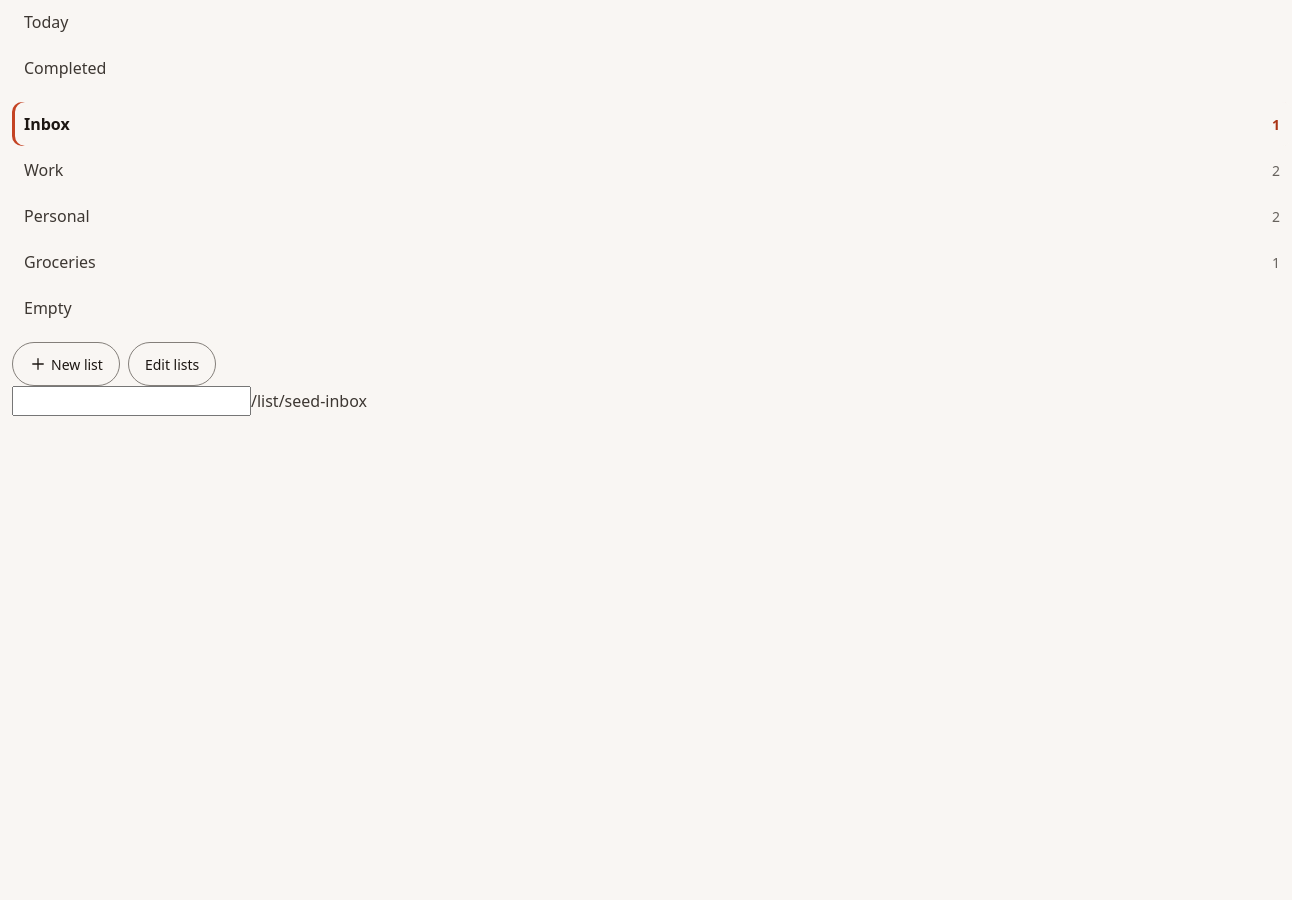
Scenario: ListNav › deleting › deletes an empty list without asking
The width and height of the screenshot is (1292, 900).
Expected: the link "Empty" is shown, [24,297,72,319]
Expected: the link "Work 2" is shown, [24,159,1280,181]
Click the button "Edit lists" at (172, 364), box [128,342,216,386]
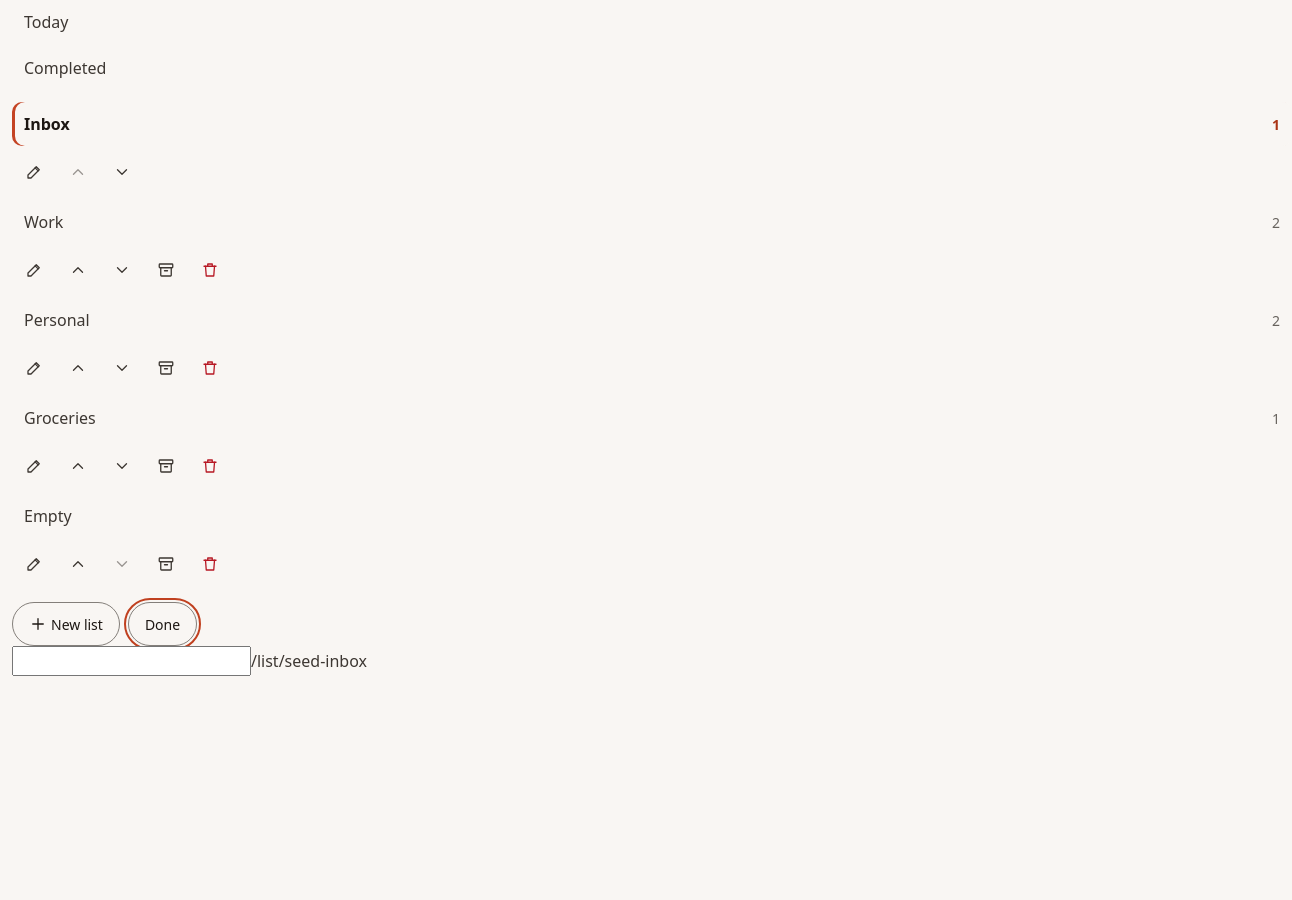
Click the button named "Delete Empty" at (210, 564), box [188,542,232,586]
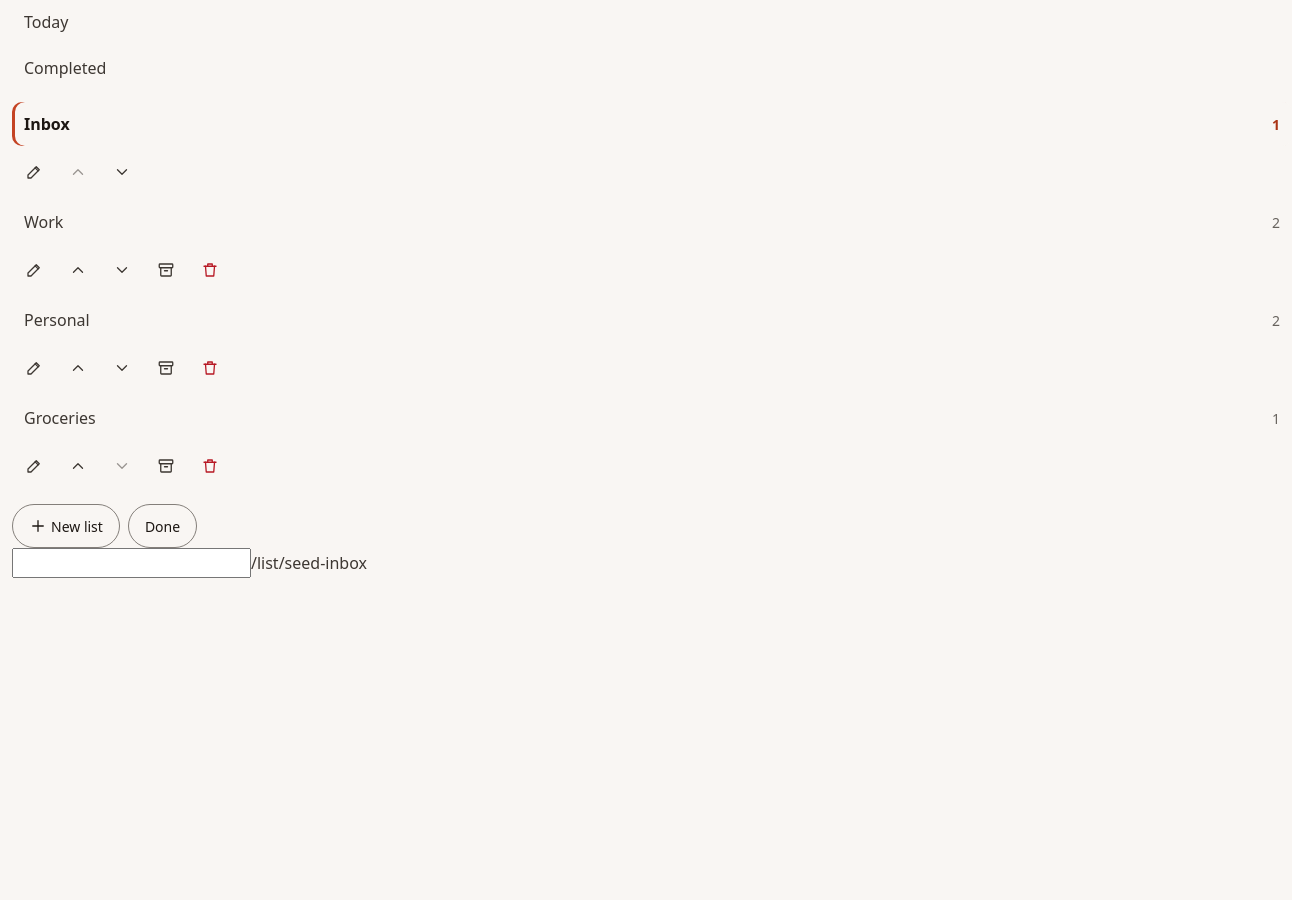
Result: the link "Empty" no longer shows "Empty"
